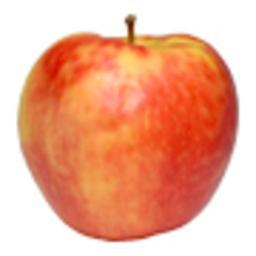apple: (17, 27, 239, 244)
